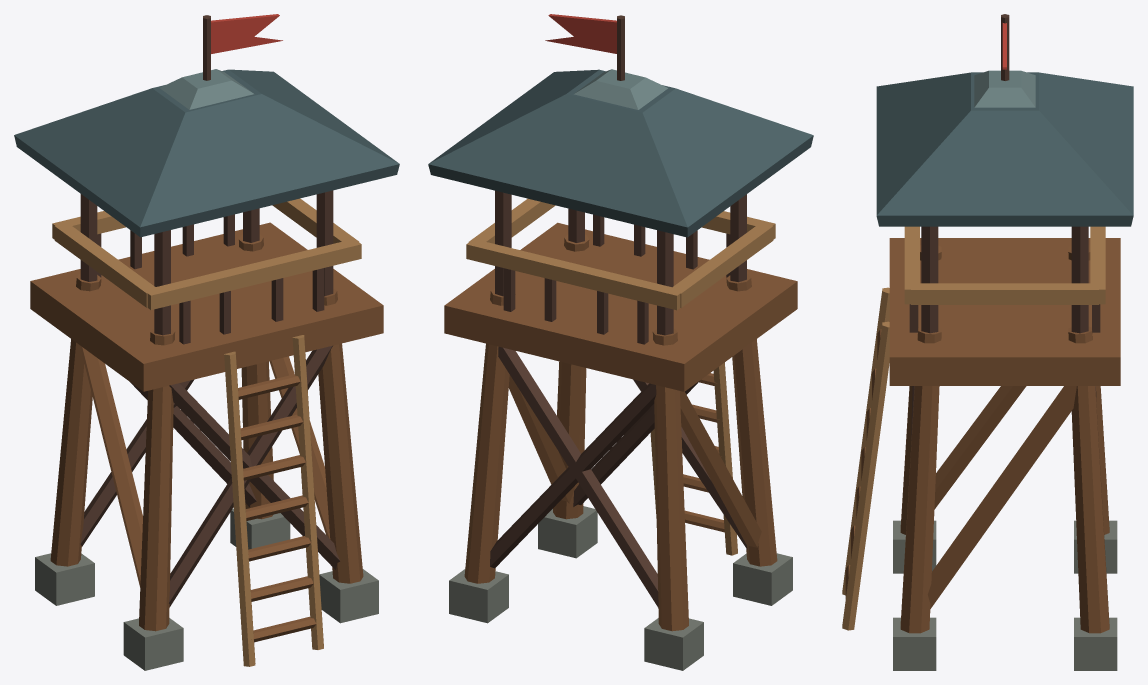
File: watchtower.glb
3 renders of one model, left to right at view 1: azimuth 30°, elevation 25°; view 2: azimuth 150°, elevation 25°; view 3: azimuth 270°, elevation 25°, orthographic. The views are drawn at different scales.
Parts seen in each view (by area): view 1: body; view 2: body; view 3: body.
Boxes of the visible parts, box(x1,y1,x2,y2) form: body: box(14, 14, 399, 670); body: box(428, 14, 813, 670); body: box(842, 14, 1133, 670).
Size of the model in its own units: 1.77 by 3.82 by 1.69.
